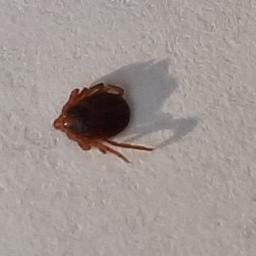Rhipicephalus sanguineus: (52, 83, 152, 164)
